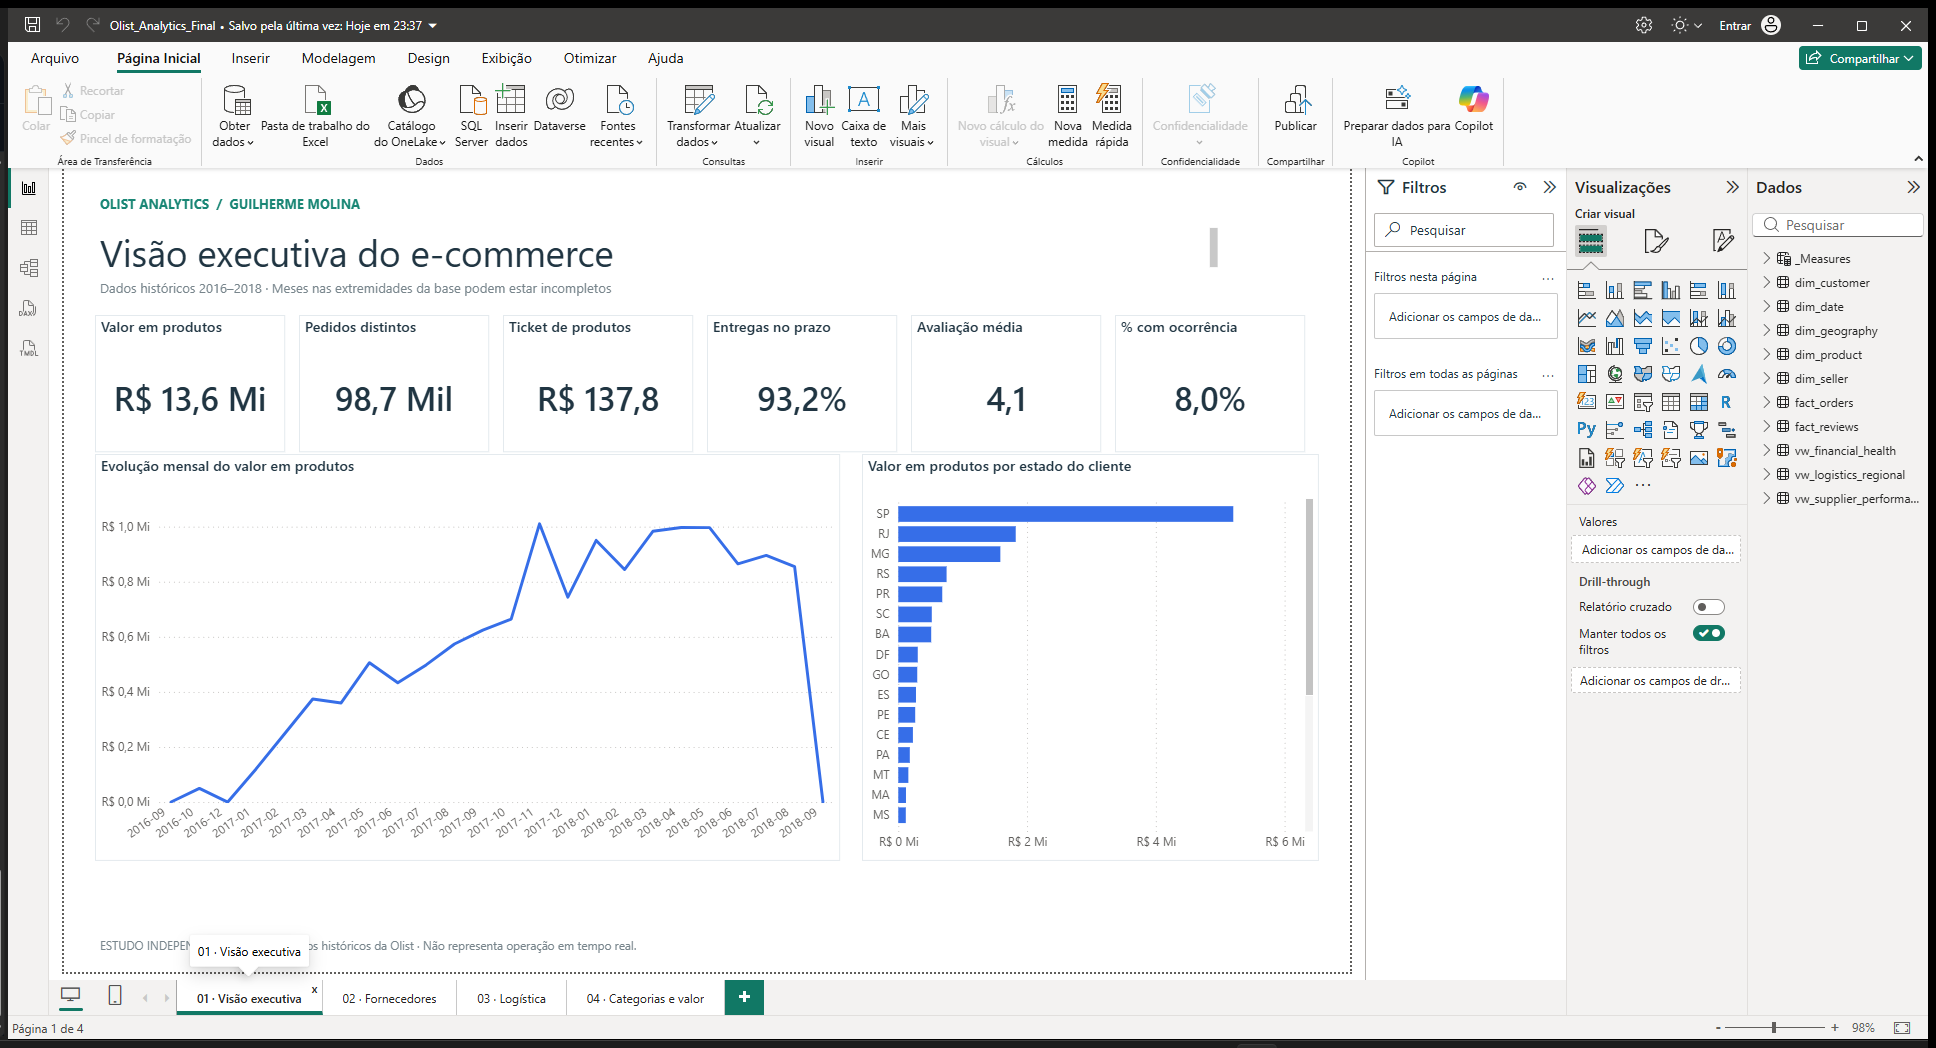

This screenshot's page, from the dashboard's own definition file:
{"tool":"powerbi","page":{"name":"01 · Visão executiva","canvas":[1312,820],"ordinal":0},"visuals":[{"type":"card","title":"Valor em produtos","fields":{"Values":["_Measures.Total Revenue"]},"box":[32,150,194,140],"z":0},{"type":"card","title":"Pedidos distintos","fields":{"Values":["_Measures.Total Orders"]},"box":[240,150,194,140],"z":1000},{"type":"card","title":"Ticket de produtos","fields":{"Values":["_Measures.Avg Ticket"]},"box":[448,150,194,140],"z":2000},{"type":"card","title":"Entregas no prazo","fields":{"Values":["_Measures.SLA % (On-Time Delivery)"]},"box":[656,150,194,140],"z":3000},{"type":"card","title":"Avaliação média","fields":{"Values":["_Measures.Avg Review Score"]},"box":[864,150,194,140],"z":4000},{"type":"card","title":"% com ocorrência","fields":{"Values":["_Measures.% Revenue at Risk"]},"box":[1072,150,194,140],"z":5000},{"type":"lineChart","title":"Evolução mensal do valor em produtos","fields":{"Category":["dim_date.year_month"],"Y":["_Measures.Total Revenue"]},"box":[32,292,760,415],"z":6000},{"type":"barChart","title":"Valor em produtos por estado do cliente","fields":{"Category":["dim_customer.state"],"Y":["_Measures.Total Revenue"]},"box":[814,292,466,415],"z":7000},{"type":"textbox","box":[32,22,1120,31],"z":8000},{"type":"textbox","box":[32,56,1150,54],"z":9000},{"type":"textbox","box":[32,108,1200,34],"z":10000},{"type":"textbox","box":[32,778,1220,31],"z":11000}]}

Visuals, with their boxes on the page's 1312x820 design canvas (x1, y1, x2, y2). These are canvas units, not pixel positions in the 1936x1048 screenshot, which may show the page scaled, cropped or inside an application window:
"Valor em produtos" card: l=32, t=150, r=226, b=290
"Pedidos distintos" card: l=240, t=150, r=434, b=290
"Ticket de produtos" card: l=448, t=150, r=642, b=290
"Entregas no prazo" card: l=656, t=150, r=850, b=290
"Avaliação média" card: l=864, t=150, r=1058, b=290
"% com ocorrência" card: l=1072, t=150, r=1266, b=290
"Evolução mensal do valor em produtos" lineChart: l=32, t=292, r=792, b=707
"Valor em produtos por estado do cliente" barChart: l=814, t=292, r=1280, b=707
textbox: l=32, t=22, r=1152, b=53
textbox: l=32, t=56, r=1182, b=110
textbox: l=32, t=108, r=1232, b=142
textbox: l=32, t=778, r=1252, b=809
